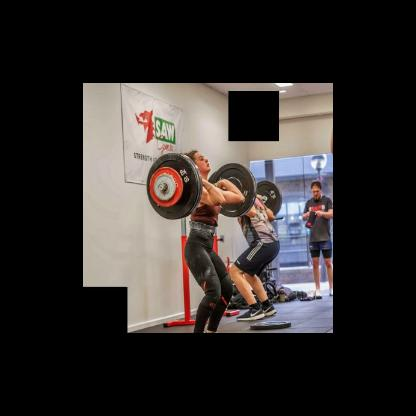barbell: (147, 153, 198, 220)
